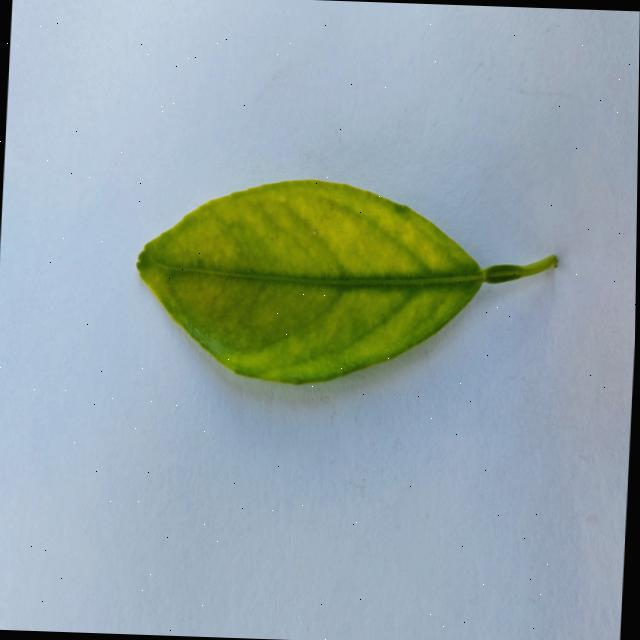greening: (136, 180, 555, 383)
